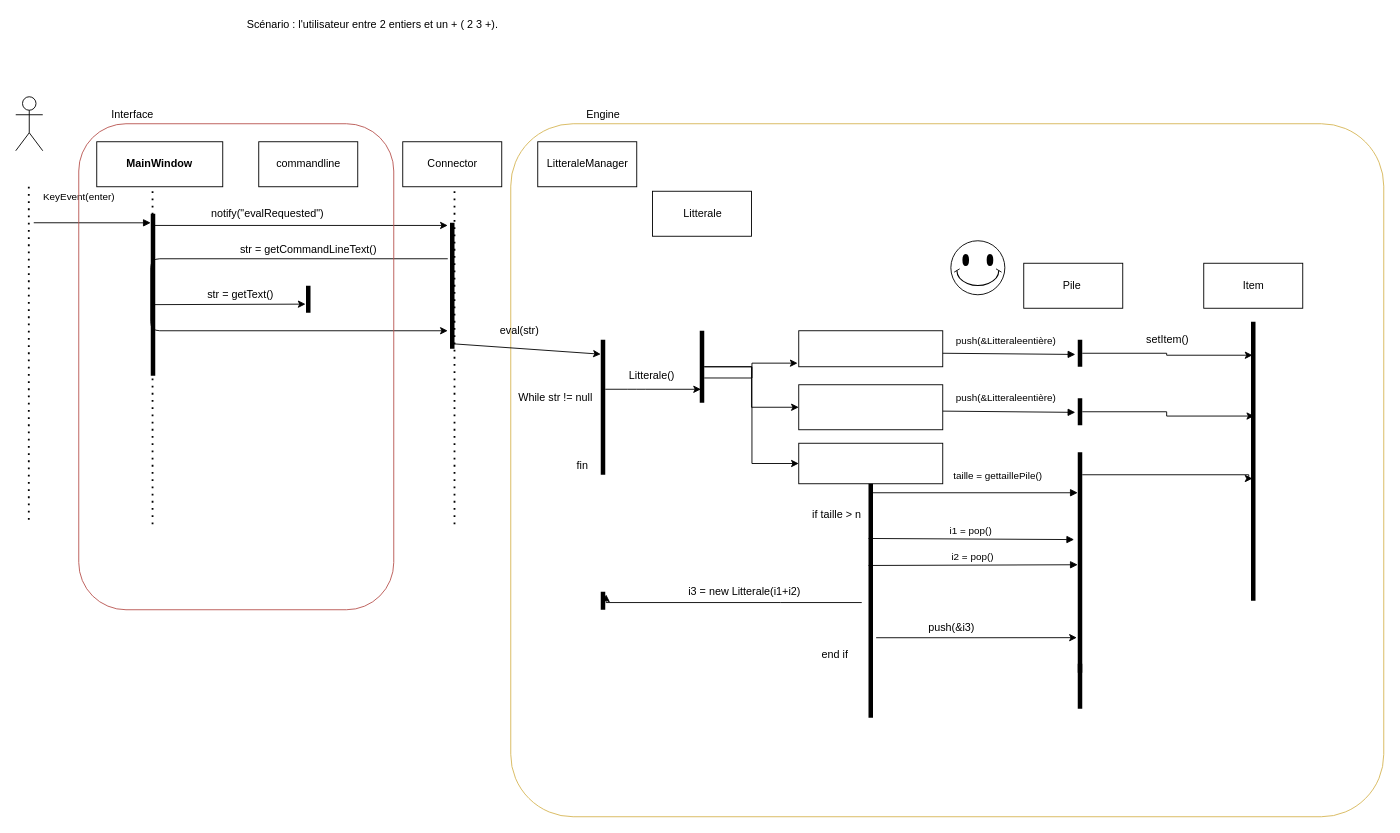
Image size: 1400x833. Some labels were removed from this diagram. Each missing label, with the centre of its shape:
Actor: (29,123)
Litteraleatome : '+': (870,463)
Litteraleentière1 : value = 2: (870,348)
Litteraleentière2 : value = 3: (870,407)
